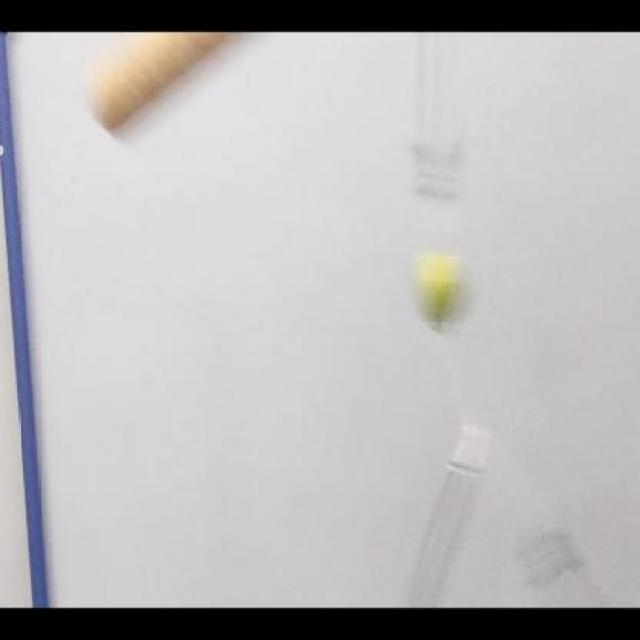baseball: (404, 245, 478, 328)
